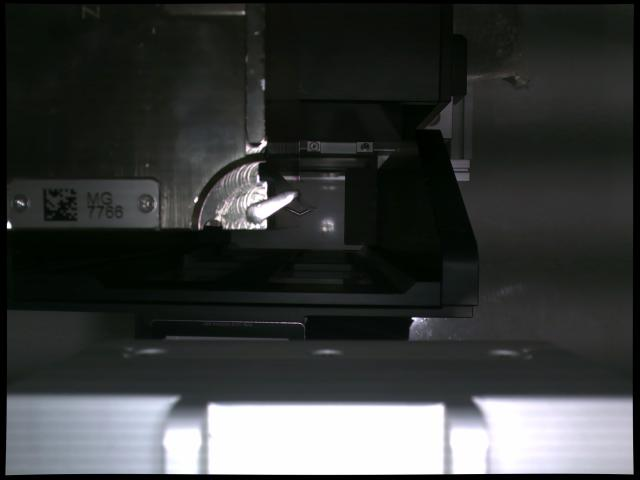jig_latch: (246, 191, 295, 223)
